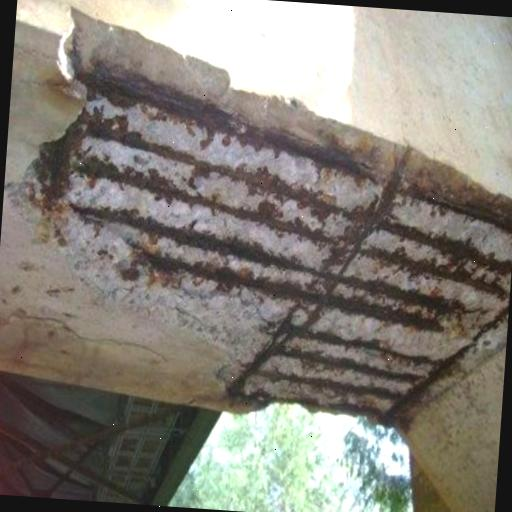spalling: (4, 4, 512, 427)
